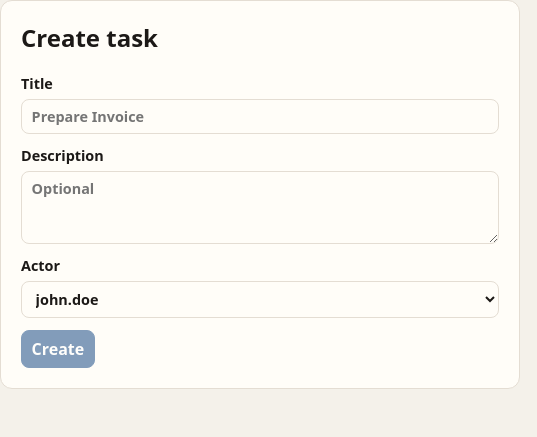
Test case: TaskForm › shows a backend create error
Type "x" into the field with placeholder "Prepare Invoice".
click(260, 116); type("x")  # box [21,99,499,134]
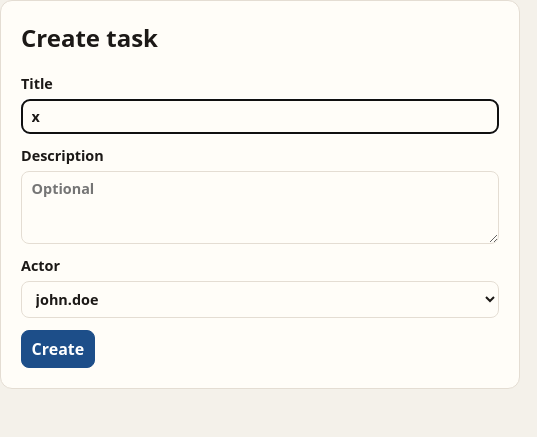
Click the button "Create".
click(58, 349)  # box [21,330,95,368]
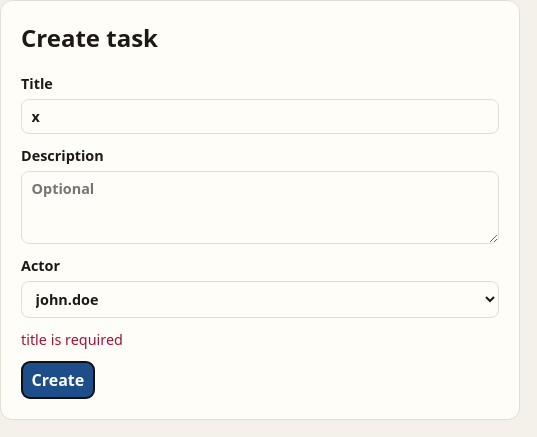
Result: the text "title is required" is shown at [21,330,123,349]
